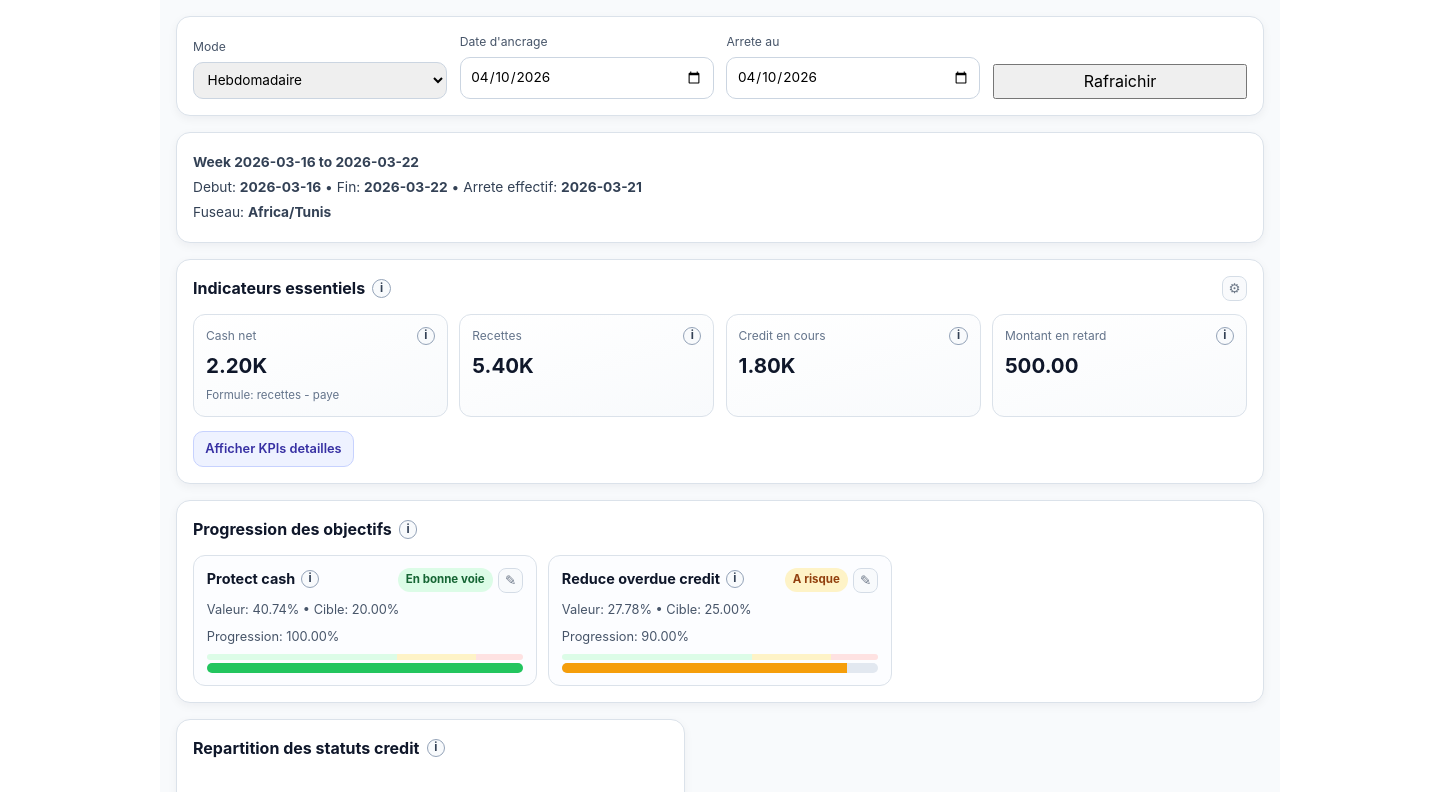
Test: HomeDashboardPage visual refresh › shows inline validation for 400 and keeps previous data
Check: the element with test id "kpi-primary-revenue" is shown, box top-left (459, 314), bottom-right (714, 417)
Type "2026-03-20" into the date field labelled "Arrete au".
click(853, 78); type("2026-03-20")  # box top-left (726, 57), bottom-right (980, 99)
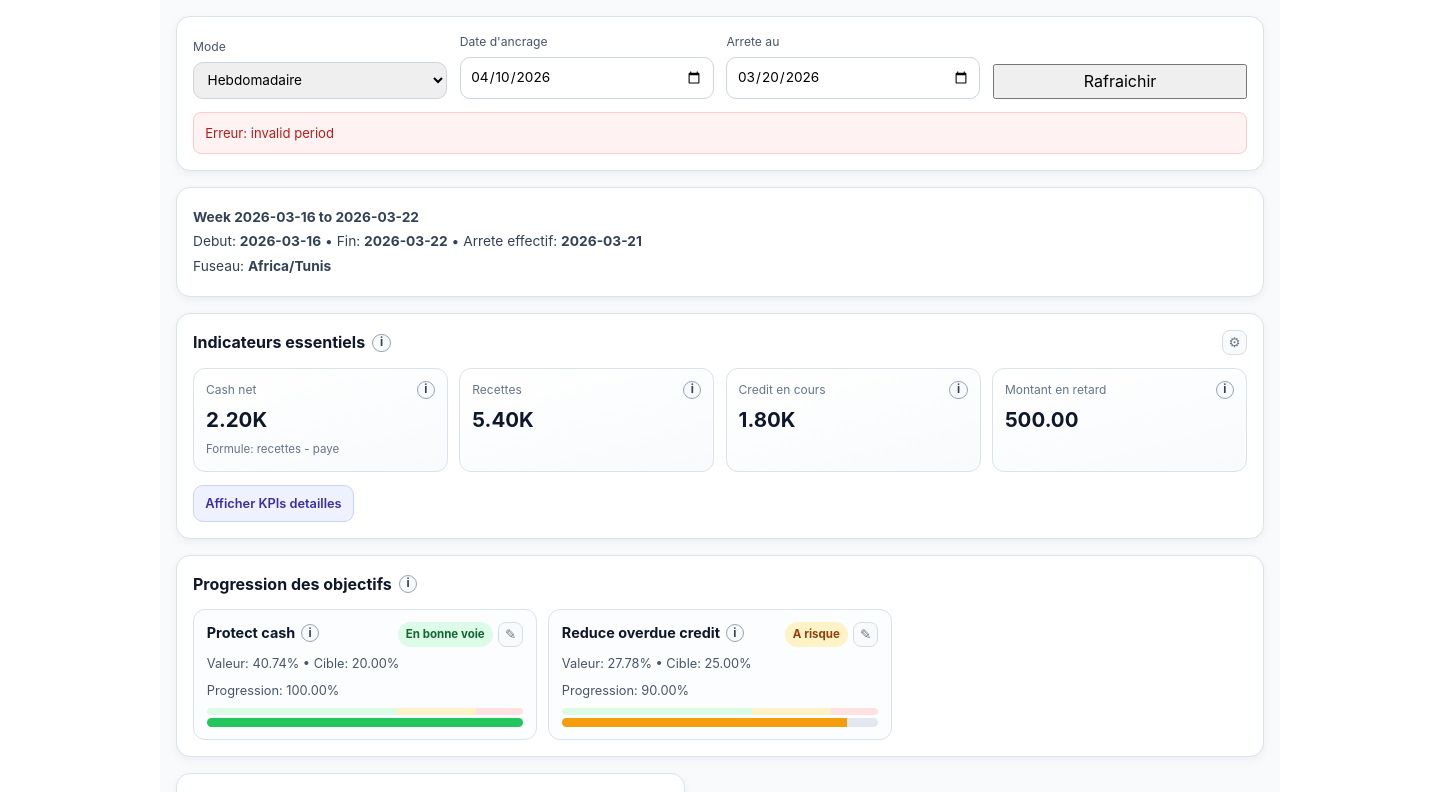
Check: the element with test id "kpi-primary-revenue" is shown, box top-left (459, 368), bottom-right (714, 472)
Check: the text "Erreur: invalid period" is shown, box top-left (193, 112), bottom-right (1247, 154)
